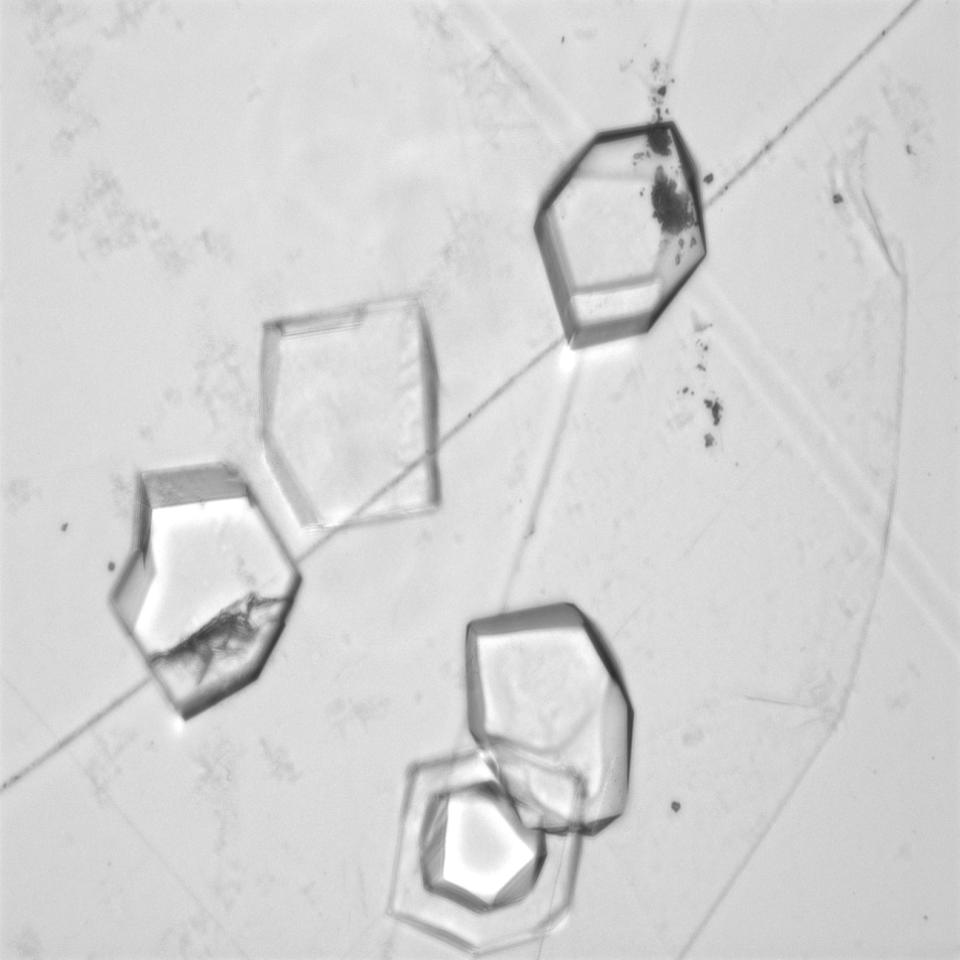crystal: (242, 280, 458, 533), (109, 461, 302, 716), (452, 603, 660, 830), (535, 119, 710, 348), (426, 783, 552, 908)
